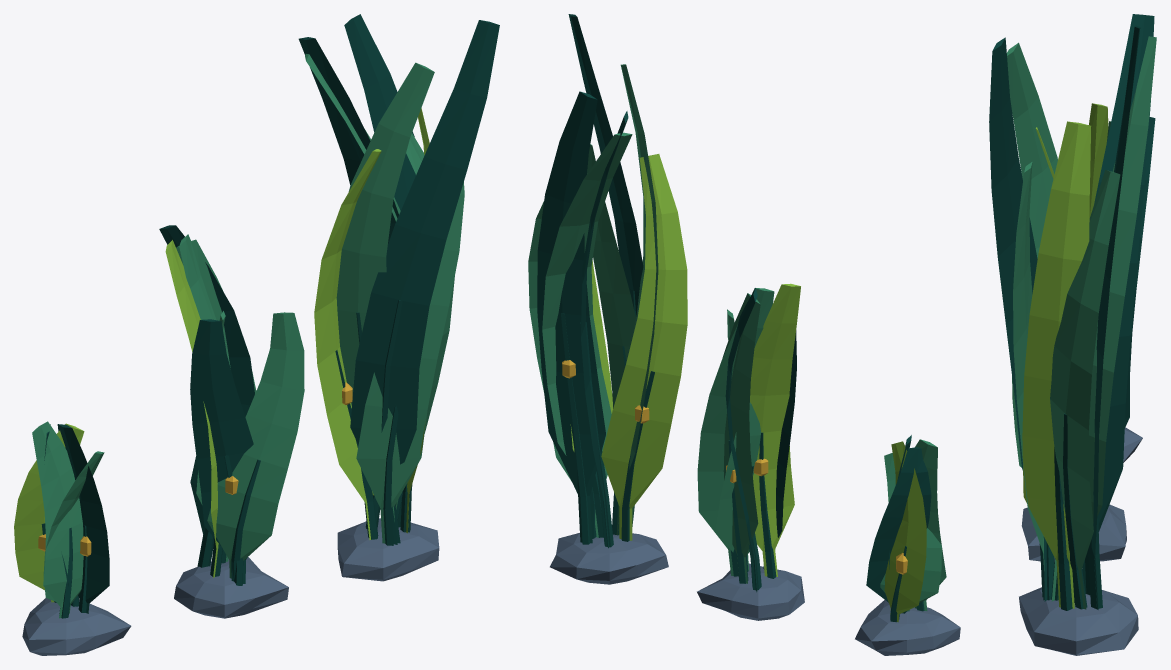
3 views of the same model, side by side, from view 1: azimuth 30°, elevation 25°; view 2: azimuth 150°, elevation 25°; view 3: azimuth 270°, elevation 25° (orthographic). The views are drawn at different scales.
Visible parts, largest first — view 1: DL007_KelpCluster_kelp_deep, DL007_KelpCluster_kelp_mid, DL007_KelpCluster_stone_blue, DL007_KelpCluster_kelp_lime, DL007_KelpCluster_kelp_gold; view 2: DL007_KelpCluster_kelp_deep, DL007_KelpCluster_kelp_mid, DL007_KelpCluster_kelp_lime, DL007_KelpCluster_stone_blue, DL007_KelpCluster_kelp_gold; view 3: DL007_KelpCluster_kelp_mid, DL007_KelpCluster_kelp_deep, DL007_KelpCluster_kelp_lime, DL007_KelpCluster_stone_blue.
Part boxes in pixels (x1,y1,x2,y2): DL007_KelpCluster_kelp_deep: [41, 14, 499, 618]; DL007_KelpCluster_kelp_mid: [32, 54, 464, 618]; DL007_KelpCluster_stone_blue: [22, 518, 439, 655]; DL007_KelpCluster_kelp_lime: [14, 108, 429, 602]; DL007_KelpCluster_kelp_gold: [38, 382, 352, 556]; DL007_KelpCluster_kelp_deep: [537, 14, 931, 622]; DL007_KelpCluster_kelp_mid: [528, 64, 946, 611]; DL007_KelpCluster_kelp_lime: [570, 154, 926, 622]; DL007_KelpCluster_stone_blue: [550, 533, 960, 655]; DL007_KelpCluster_kelp_gold: [562, 360, 907, 574]; DL007_KelpCluster_kelp_mid: [1006, 36, 1156, 609]; DL007_KelpCluster_kelp_deep: [989, 14, 1155, 610]; DL007_KelpCluster_kelp_lime: [1022, 103, 1108, 608]; DL007_KelpCluster_stone_blue: [1019, 427, 1142, 655].
Size of the model in its own units: 5.05 by 6.05 by 1.43.
